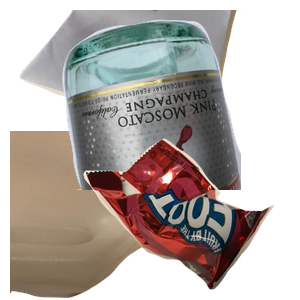glass: (60, 17, 300, 197)
paper: (17, 10, 254, 141)
plastic: (10, 131, 196, 300)
trash: (81, 136, 300, 300)
